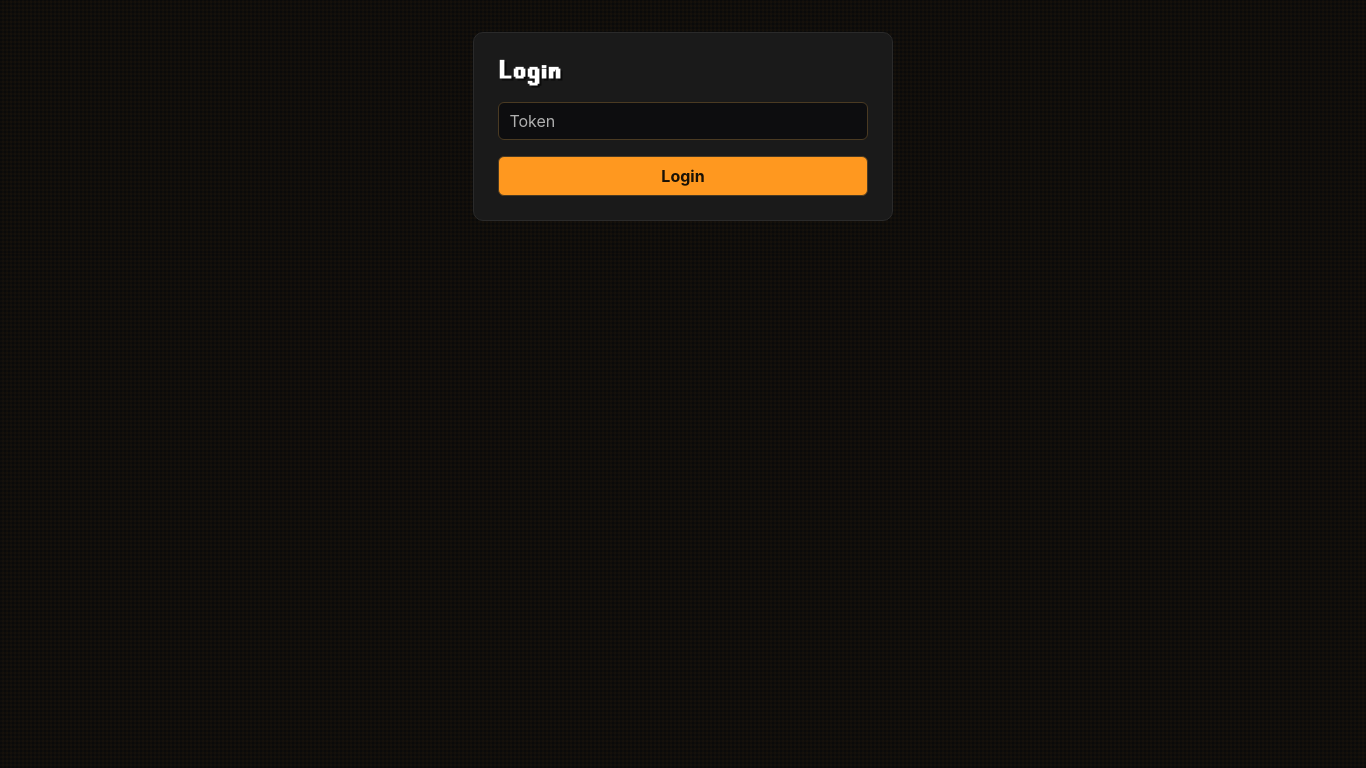
Test: Login › shows an error for an incorrect token
This screenshot has width=1366, height=768.
Type "wrong" into the password field labelled "Token" at (683, 121), box [498,102,868,140]
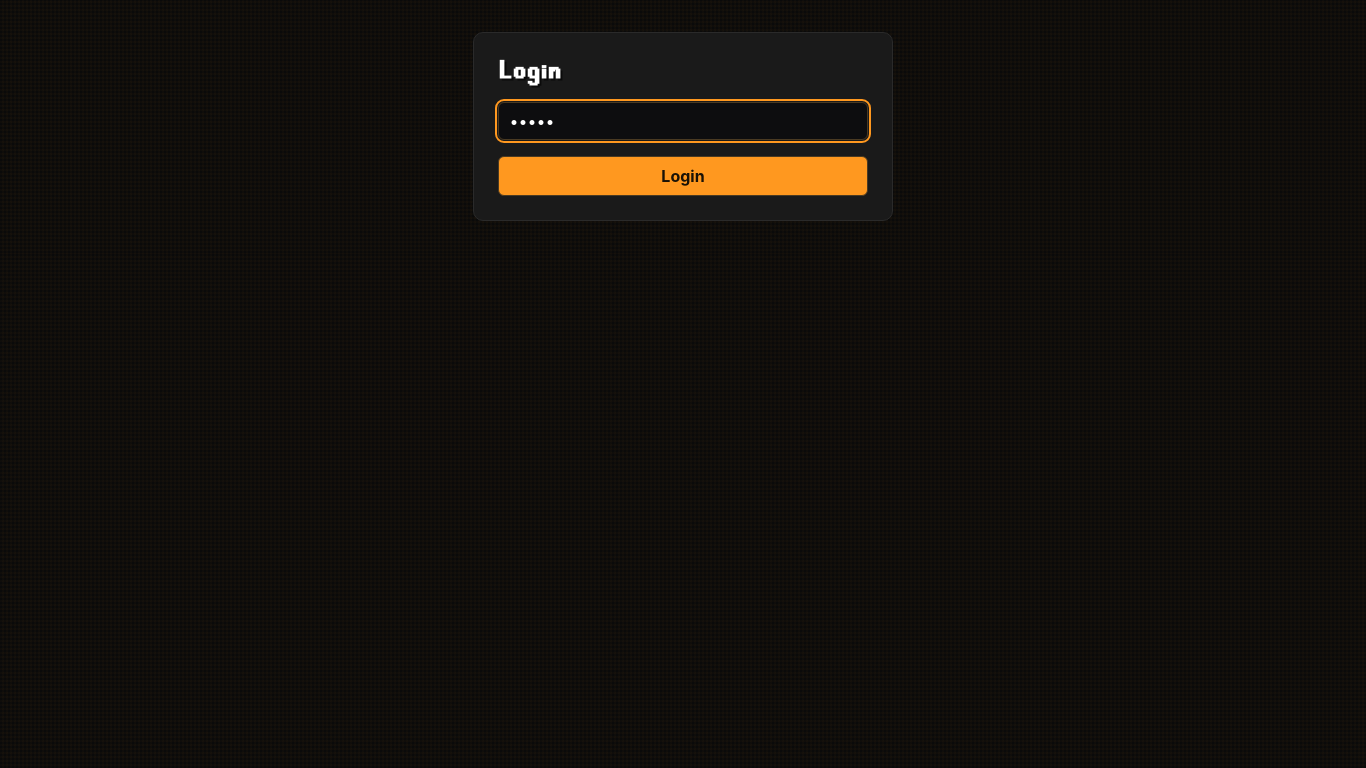
Click the button "Login" at (683, 176), box [498,156,868,196]
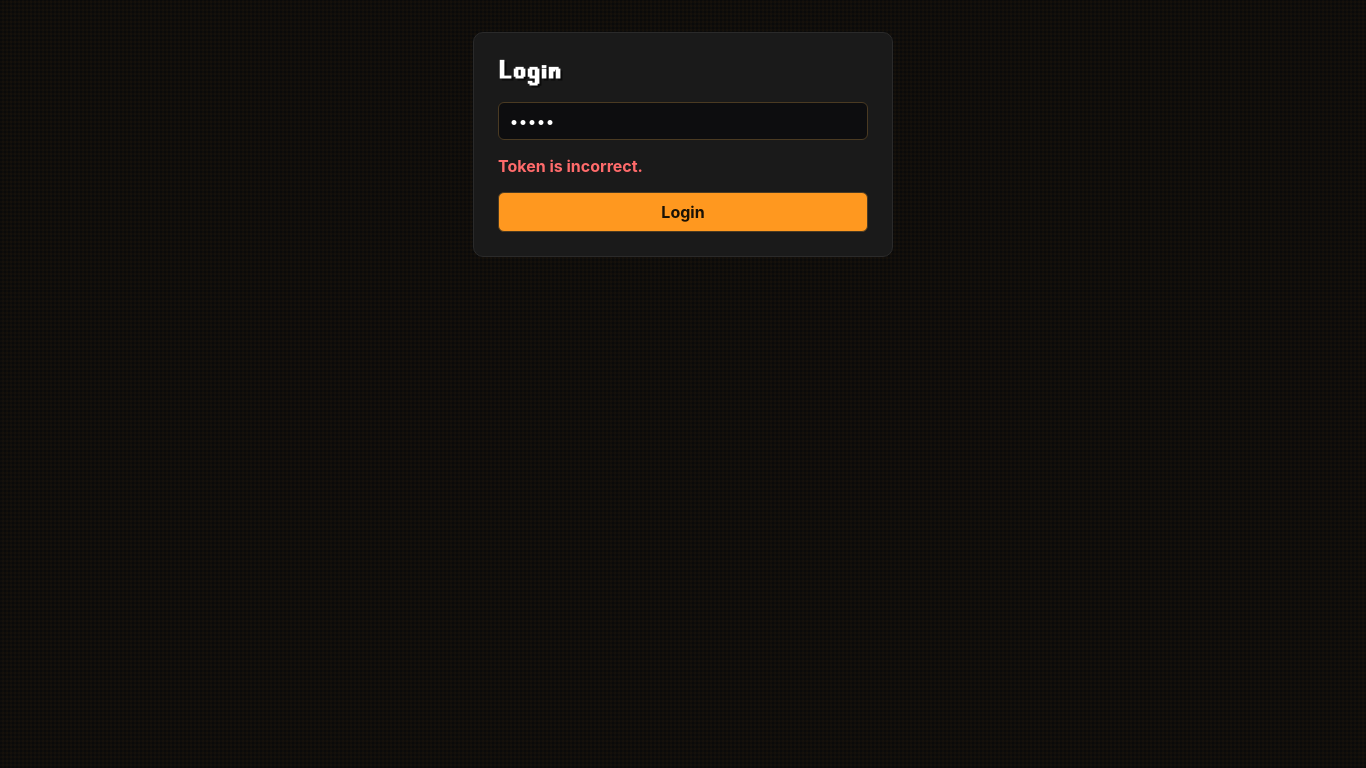
Result: the text "Token is incorrect." is shown at [498,156,643,176]
